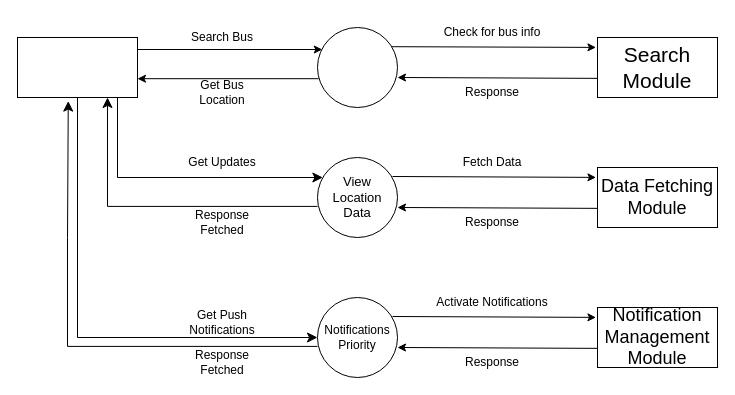
This 735x395 diagram has some shape labels left out. The shapes that lost their labels are listed below. From the top down, each one's centre as x and y in pixels, then its label:
At point (77, 67): "User".
At point (357, 67): "Search".
